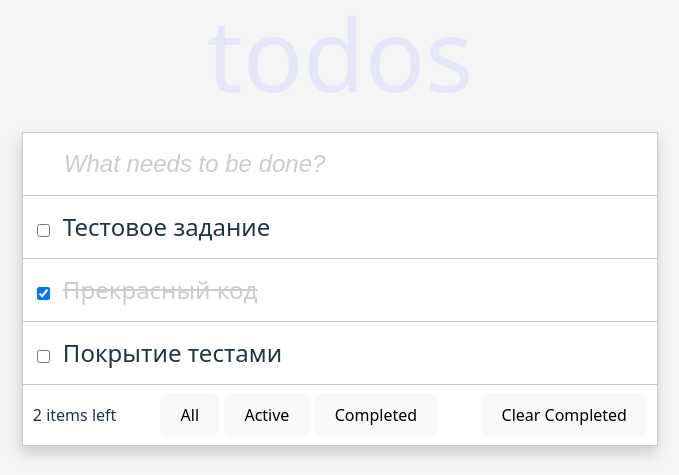
Test: App Component › очищает выполненные задачи
Expected: the text "Прекрасный код" is shown, [63, 272, 257, 308]
Click the button "Clear Completed": (564, 415) [481, 393, 647, 437]
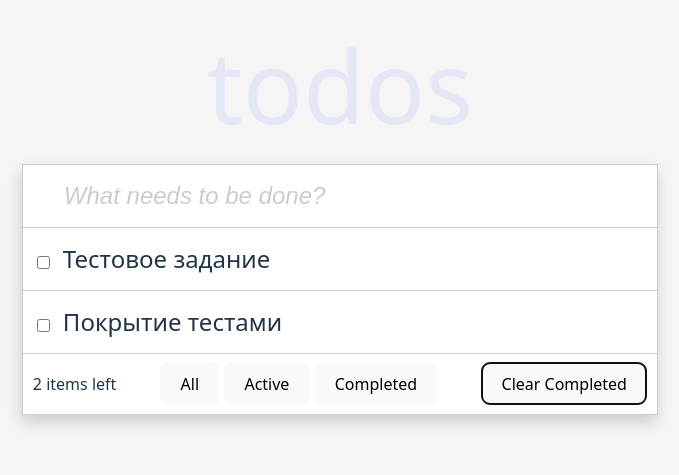
Expected: the text "Тестовое задание" is shown, [63, 240, 270, 276]
Expected: the text "Прекрасный код" is gone
